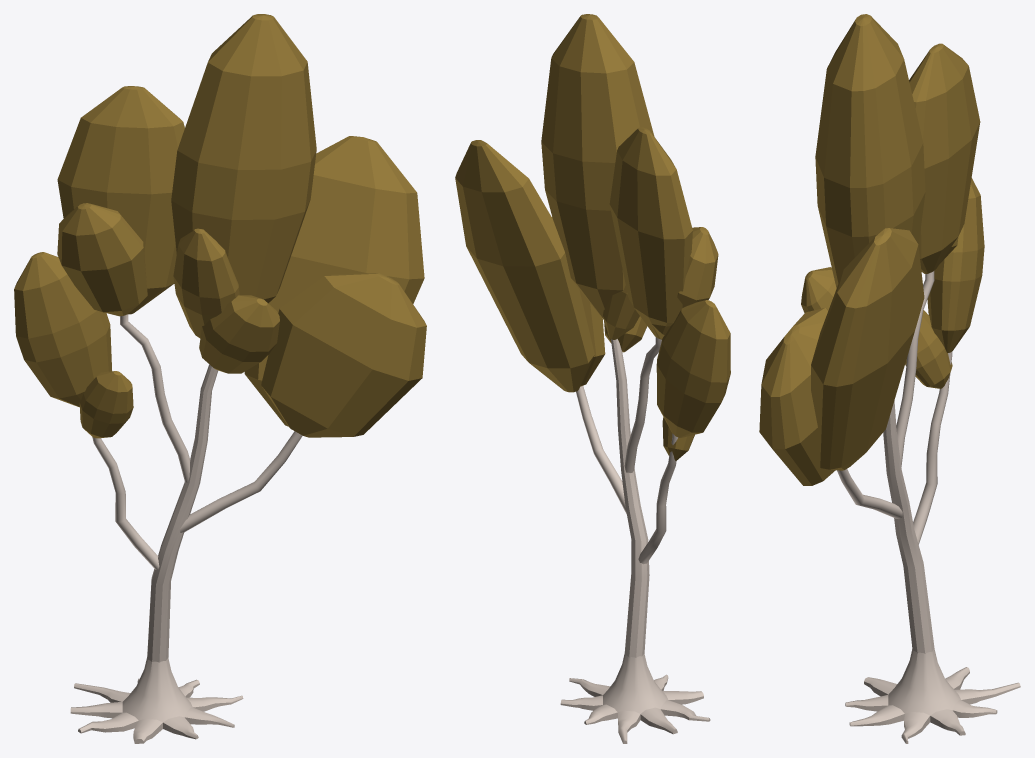
The model's file is LowPolyBirchTree.fbx.
3 views of the same model, side by side, from view 1: azimuth 30°, elevation 25°; view 2: azimuth 150°, elevation 25°; view 3: azimuth 270°, elevation 25° (orthographic). The views are drawn at different scales.
Visible parts, largest first — view 1: Birch_Tree; view 2: Birch_Tree; view 3: Birch_Tree.
Boxes of the visible parts, bbox=[...] form: Birch_Tree: bbox=[14, 14, 426, 743]; Birch_Tree: bbox=[455, 14, 730, 743]; Birch_Tree: bbox=[759, 14, 1020, 743].
Bounding box in the file's own units: 6.99 × 13.58 × 4.41.
